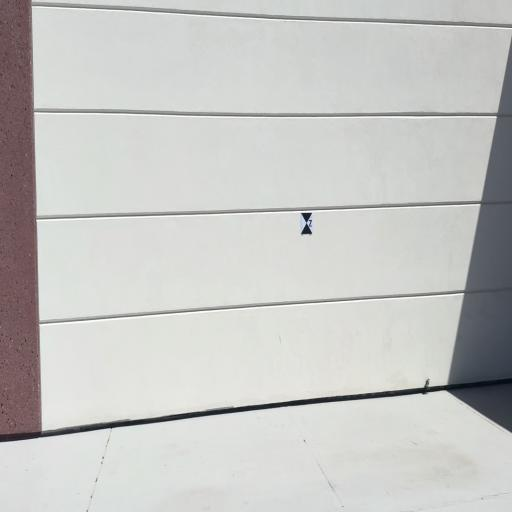target7: (301, 212, 313, 234)
